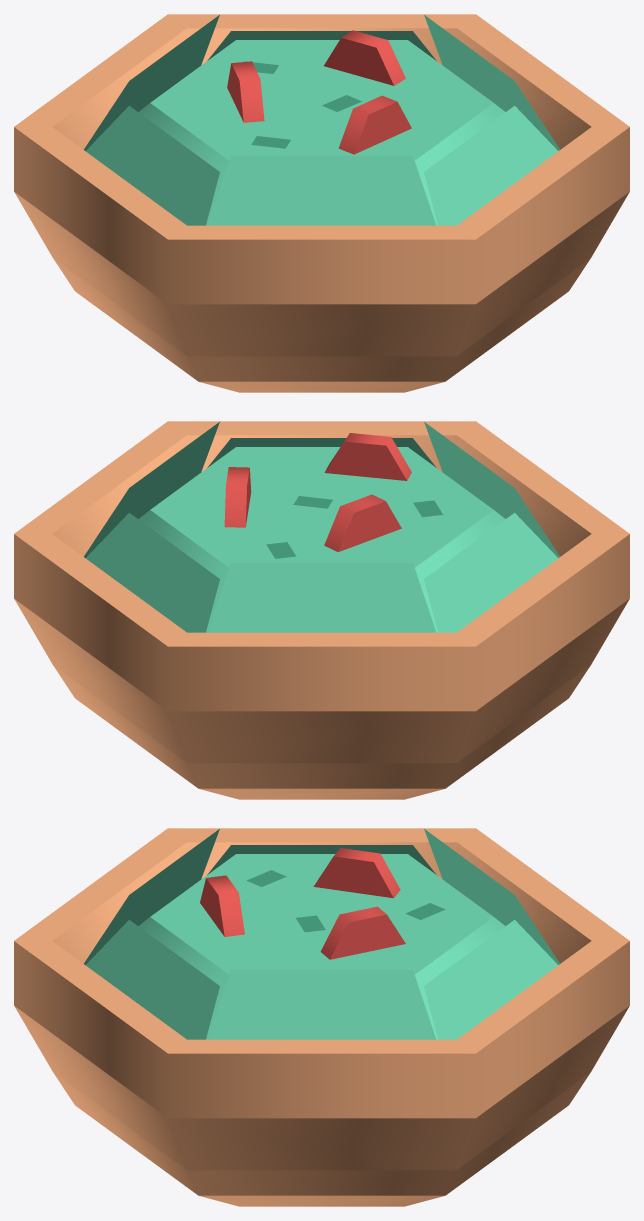
The model's file is Salad.glb.
3 renders of one model, top to bottom at view 1: azimuth 30°, elevation 25°; view 2: azimuth 150°, elevation 25°; view 3: azimuth 270°, elevation 25°, orthographic.
Visible parts, largest first — view 1: Salad; view 2: Salad; view 3: Salad.
Part boxes in pixels (<box>): Salad: <box>14,14,629,392</box>; Salad: <box>14,421,629,799</box>; Salad: <box>14,828,629,1206</box>.
Bounding box in the file's own units: 0.2232 × 0.1215 × 0.2577.
